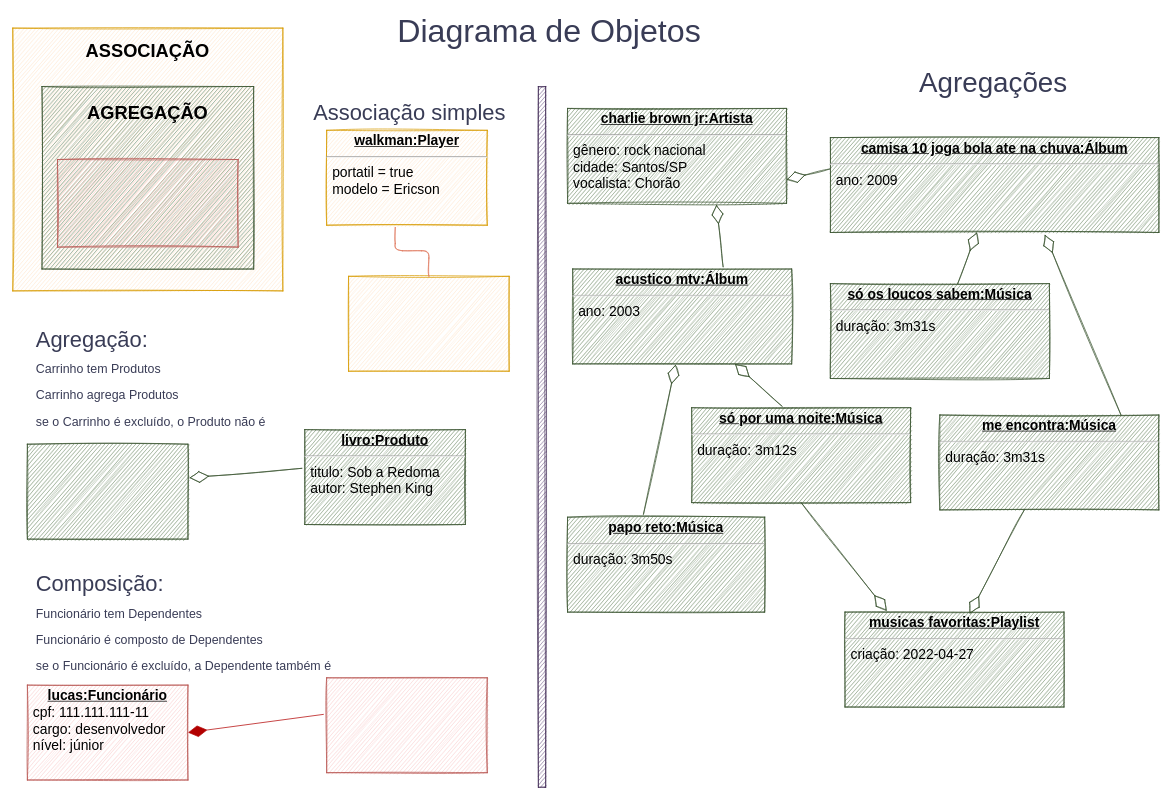
This 1172x800 diagram has some shape labels left out. The shapes that lost their labels are listed below. From the top down, each one's centre as x and y in pixels, then its label:
At pixel 147 203: "COMPOSIÇÃO".
At pixel 428 323: "charlie brown jr:CD álbum: Acústico MTV duração: 53m17s".
At pixel 107 491: "meu carrinho:Carrinho capacidade: 10".
At pixel 406 725: "marina:Dependente CPF: 222.222.222-22 idade: 1 ano".
